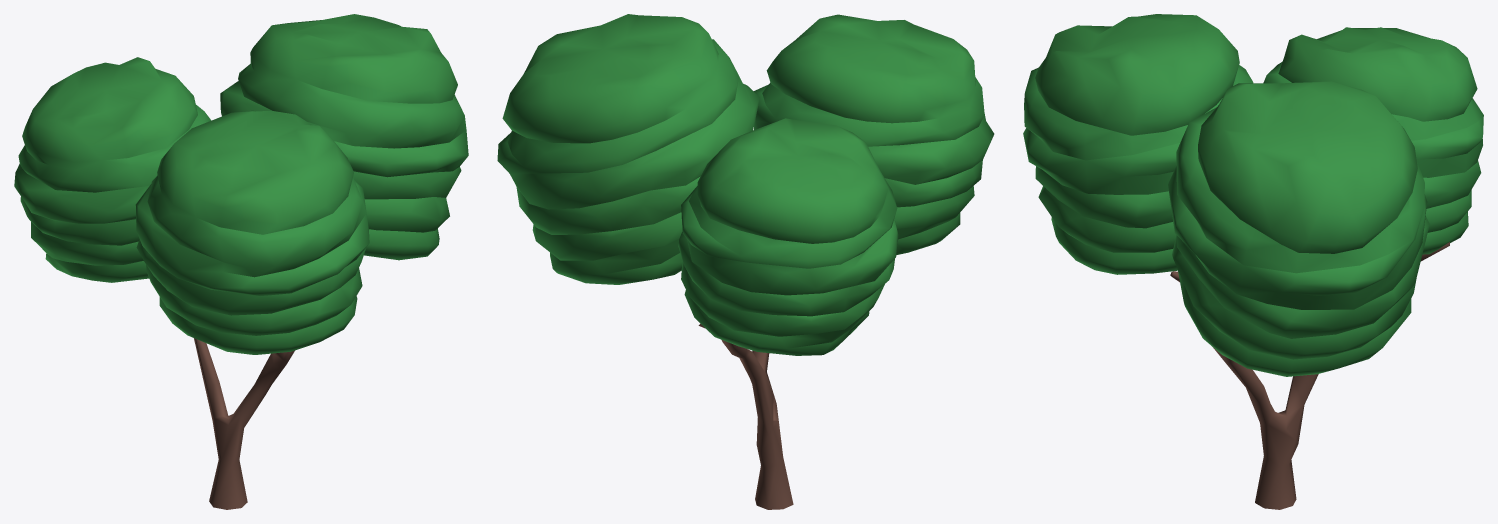
The model's file is fabulous_tree_018.glb.
3 renders of one model, left to right at view 1: azimuth 30°, elevation 25°; view 2: azimuth 150°, elevation 25°; view 3: azimuth 270°, elevation 25°, orthographic. The views are drawn at different scales.
Parts seen in each view (by area): view 1: fabulous_tree_018; view 2: fabulous_tree_018; view 3: fabulous_tree_018.
Part boxes in pixels (box(x1,y1,x2,y2)): fabulous_tree_018: box(14, 14, 468, 509); fabulous_tree_018: box(497, 14, 994, 509); fabulous_tree_018: box(1023, 14, 1483, 509).
Bounding box in the file's own units: 6.57 × 6.83 × 6.13.
Materials: 1 (1 with a texture image).
